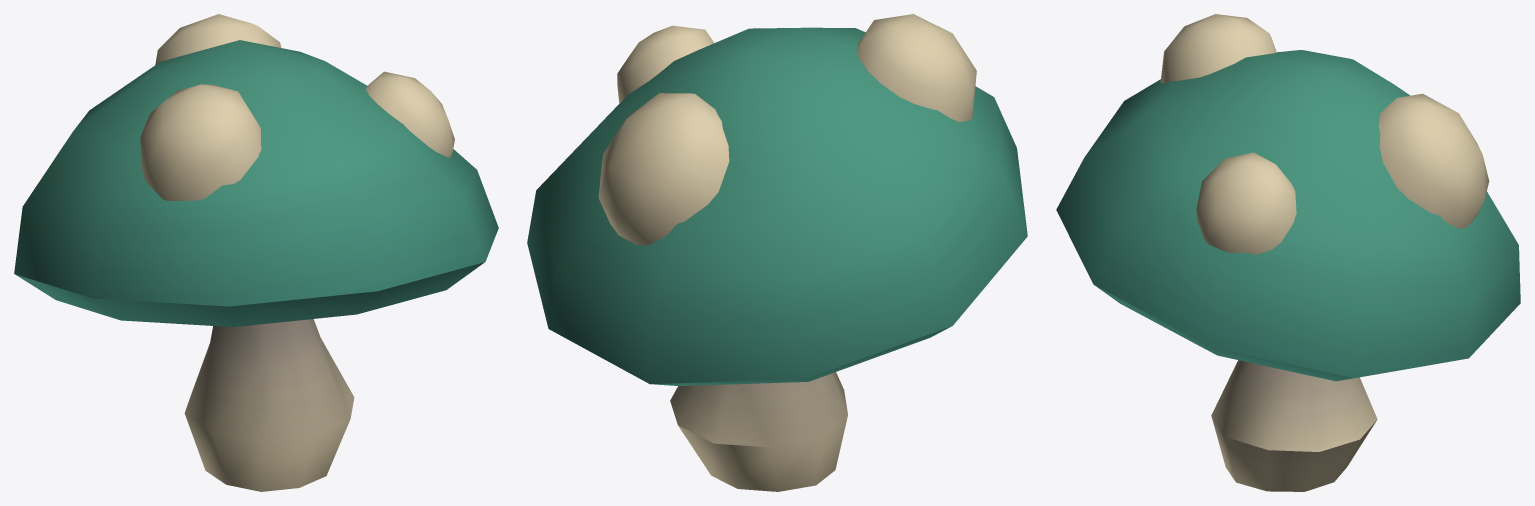
3 renders of one model, left to right at view 1: azimuth 30°, elevation 25°; view 2: azimuth 150°, elevation 25°; view 3: azimuth 270°, elevation 25°, orthographic. The views are drawn at different scales.
Visible parts, largest first — view 1: mff_plant_mushroom_blue; view 2: mff_plant_mushroom_blue; view 3: mff_plant_mushroom_blue.
Part boxes in pixels (bbox=[...]): mff_plant_mushroom_blue: bbox=[14, 14, 498, 491]; mff_plant_mushroom_blue: bbox=[527, 14, 1027, 491]; mff_plant_mushroom_blue: bbox=[1056, 14, 1520, 491].
Bounding box in the file's own units: 0.4221 × 0.4144 × 0.4315.
1 material, 1 textured.
